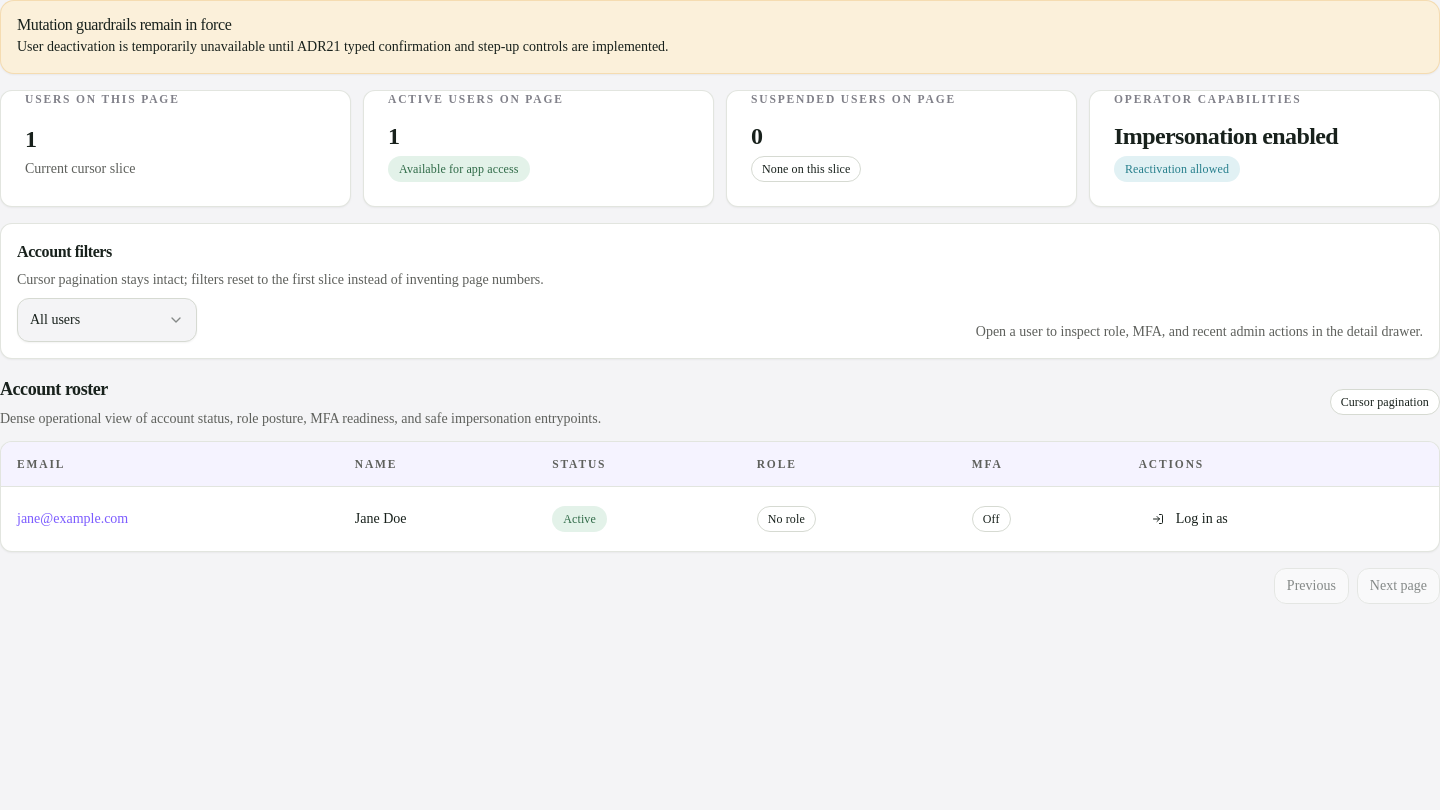
Test case: UsersTable › opens the impersonation dialog when Log in as is clicked
Step 1. Click the button "Log in as" → (1190, 519), box x1=1139 y1=501 x2=1241 y2=537
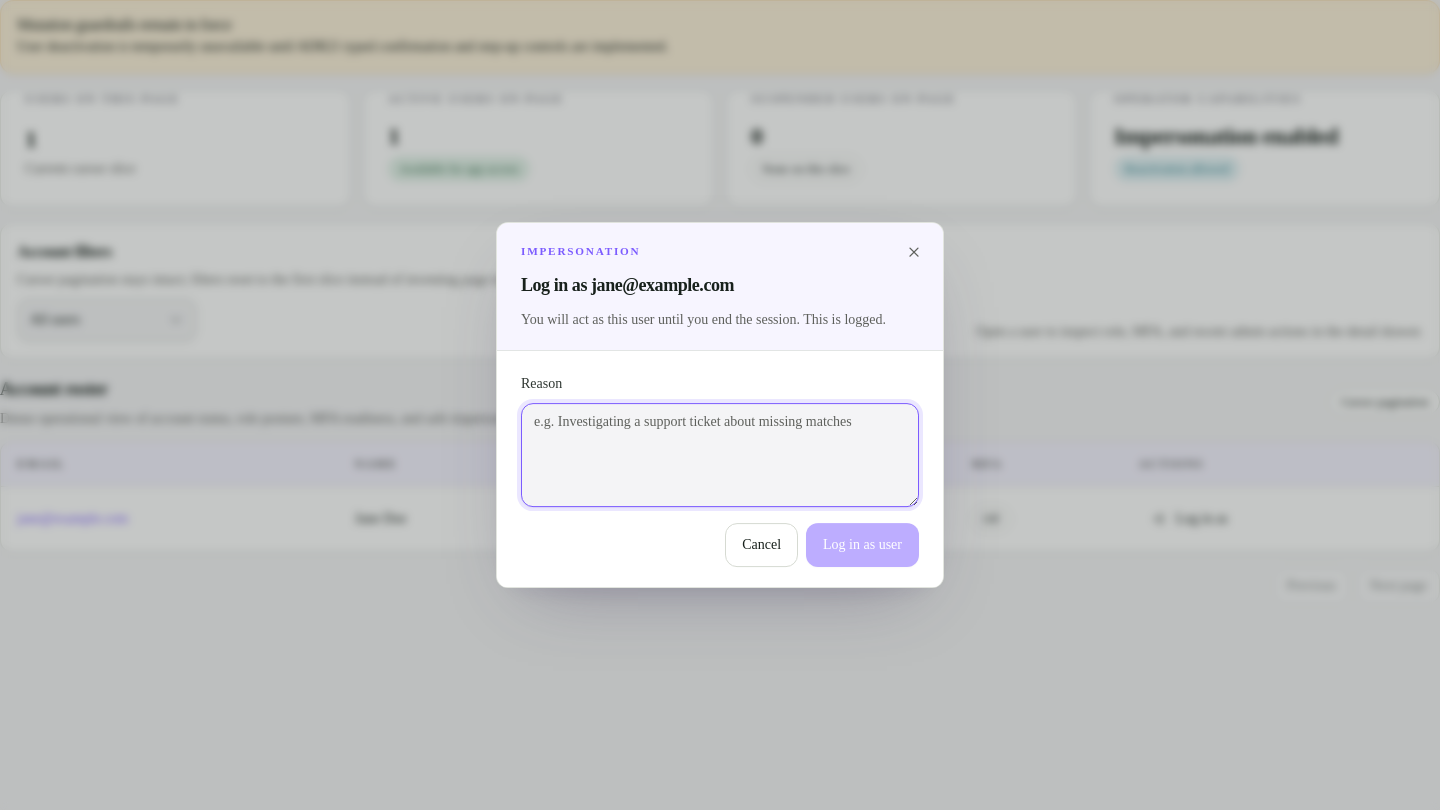
Result: the heading "Log in as jane@example.com" is shown at x1=521 y1=275 x2=734 y2=295
